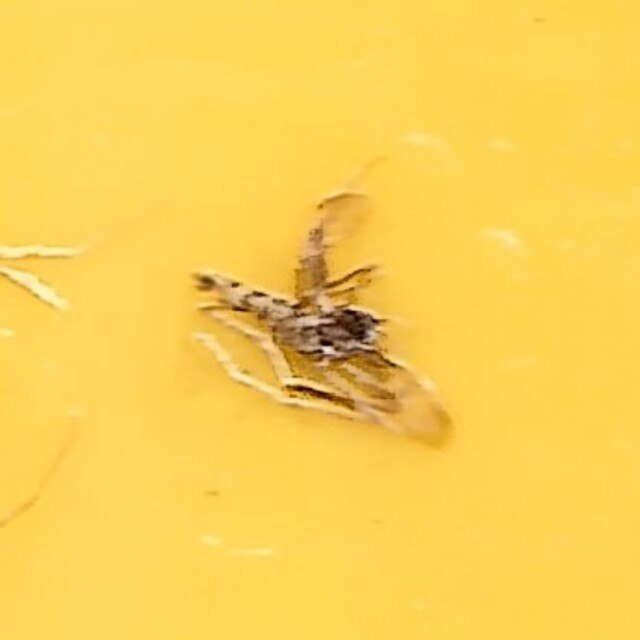Nematocera: (186, 167, 454, 473)
